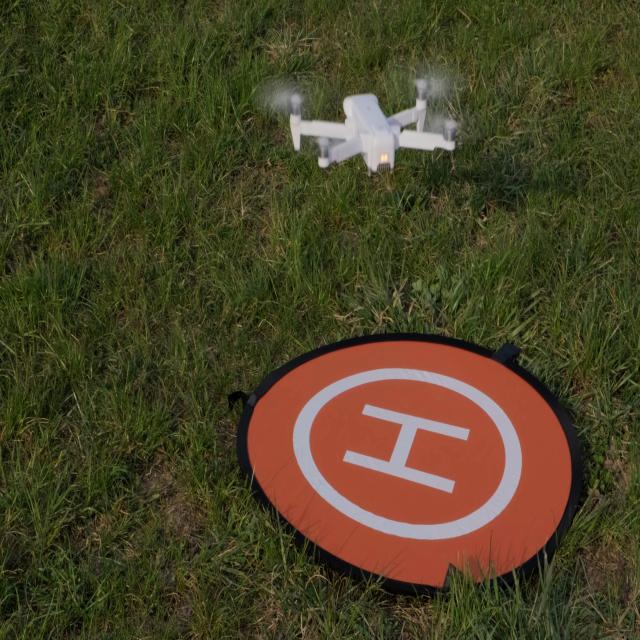drone: (250, 73, 457, 176)
